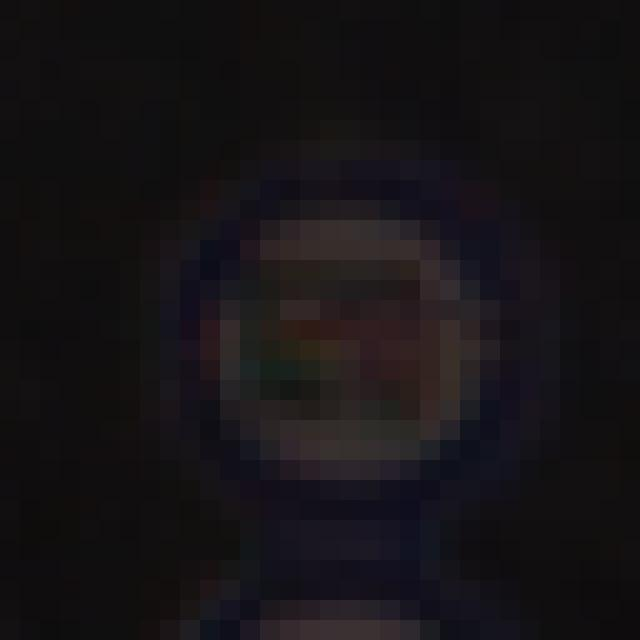SPEED LIMIT 120: (153, 190, 501, 486)
